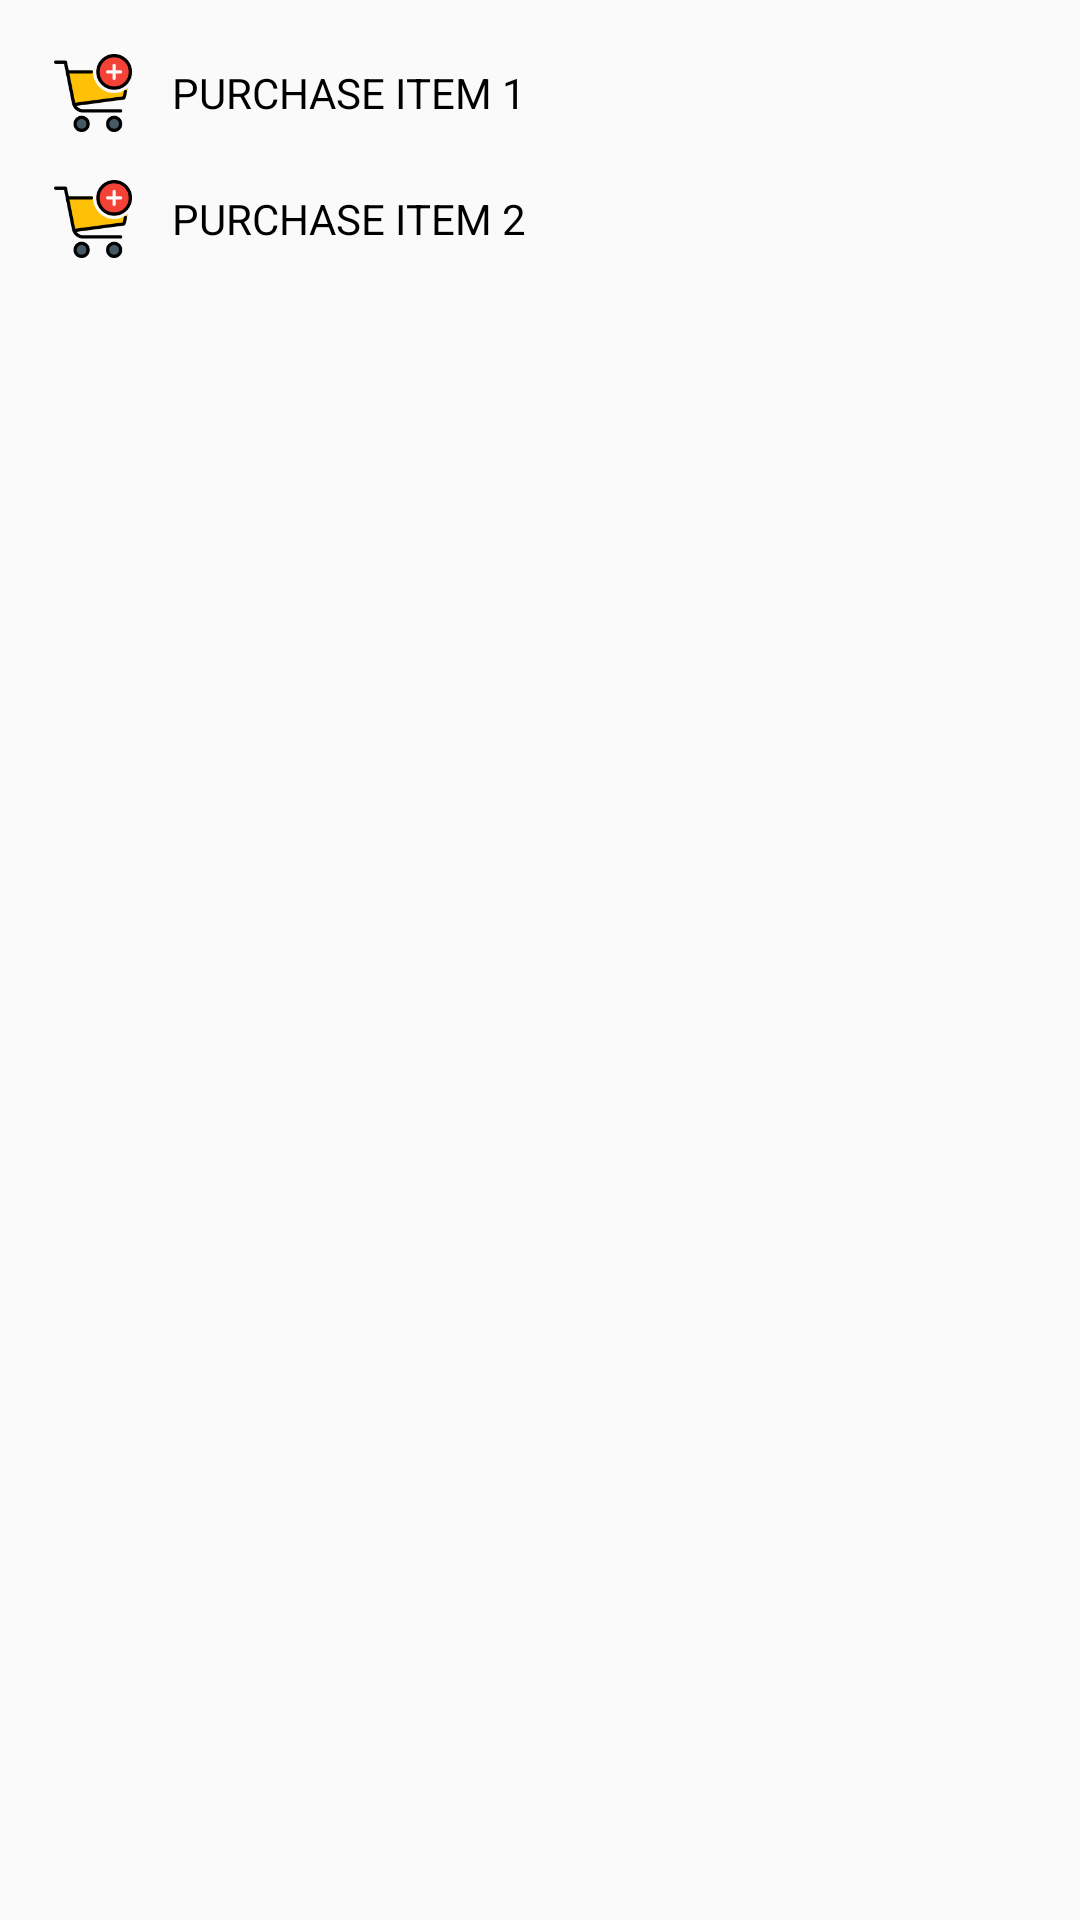

Locate icon controls on the screen. Image size 1080 × 1920, boxes as bbox(x1, y1, x2, y2).
cart: bbox(54, 54, 132, 132), bbox(54, 180, 132, 258)
